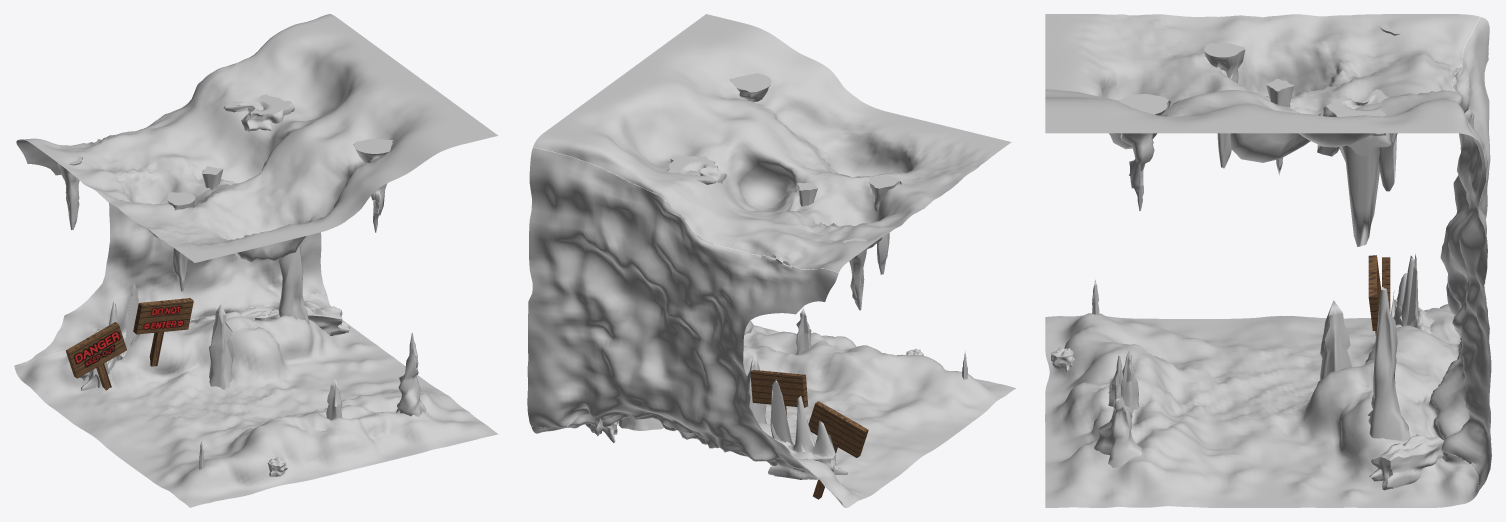
The model's file is Cave entrance.fbx.
3 views of the same model, side by side, from view 1: azimuth 30°, elevation 25°; view 2: azimuth 150°, elevation 25°; view 3: azimuth 270°, elevation 25° (orthographic). The views are drawn at different scales.
Parts seen in each view (by area): view 1: polySurface2, polySurface3, polySurface4, sign, sign1, pCylinder34, pCylinder13, pCube18, pCylinder2, pCube13, pCylinder10, pCube11 (+2 smaller); view 2: polySurface2, polySurface4, polySurface3, pCube13, sign1, sign, pCube18, pCylinder32, pCylinder10, pCylinder25, pCylinder34; view 3: polySurface3, polySurface2, polySurface4, pCube18, pCylinder13, pCube11, pCylinder2, pCylinder10, pCylinder34, pCube13, pCylinder32, sign (+2 smaller).
Part boxes in pixels (box(x1,y1,x2,y2)): polySurface2: box(20, 14, 498, 262); polySurface3: box(15, 293, 497, 507); polySurface4: box(14, 113, 326, 367); sign: box(133, 298, 193, 366); sign1: box(65, 322, 126, 390); pCylinder34: box(209, 304, 233, 389); pCylinder13: box(278, 245, 309, 324); pCube18: box(223, 94, 294, 131); pCylinder2: box(396, 332, 427, 416); pCube13: box(80, 283, 138, 390); pCylinder10: box(353, 139, 393, 232); pCube11: box(304, 301, 349, 335); polySurface2: box(533, 14, 1011, 272); polySurface4: box(527, 147, 842, 503); polySurface3: box(531, 325, 1015, 507); pCube13: box(767, 379, 847, 479); sign1: box(808, 401, 868, 499); sign: box(750, 370, 808, 417); pCube18: box(666, 155, 726, 243); pCylinder32: box(869, 175, 901, 274); pCylinder10: box(729, 73, 771, 101); pCylinder25: box(843, 238, 867, 310); pCylinder34: box(746, 352, 766, 423); polySurface3: box(1045, 304, 1479, 507); polySurface2: box(1045, 14, 1479, 162); polySurface4: box(1431, 17, 1491, 489); pCube18: box(1317, 89, 1397, 246); pCylinder13: box(1368, 287, 1410, 440); pCube11: box(1369, 434, 1445, 490); pCylinder2: box(1094, 355, 1142, 467); pCylinder10: box(1119, 94, 1170, 210); pCylinder34: box(1320, 300, 1351, 379); pCube13: box(1391, 254, 1434, 333); pCylinder32: box(1204, 43, 1245, 168); sign: box(1368, 255, 1380, 335).
Bounding box in the file's own units: 712 × 703 × 706.
